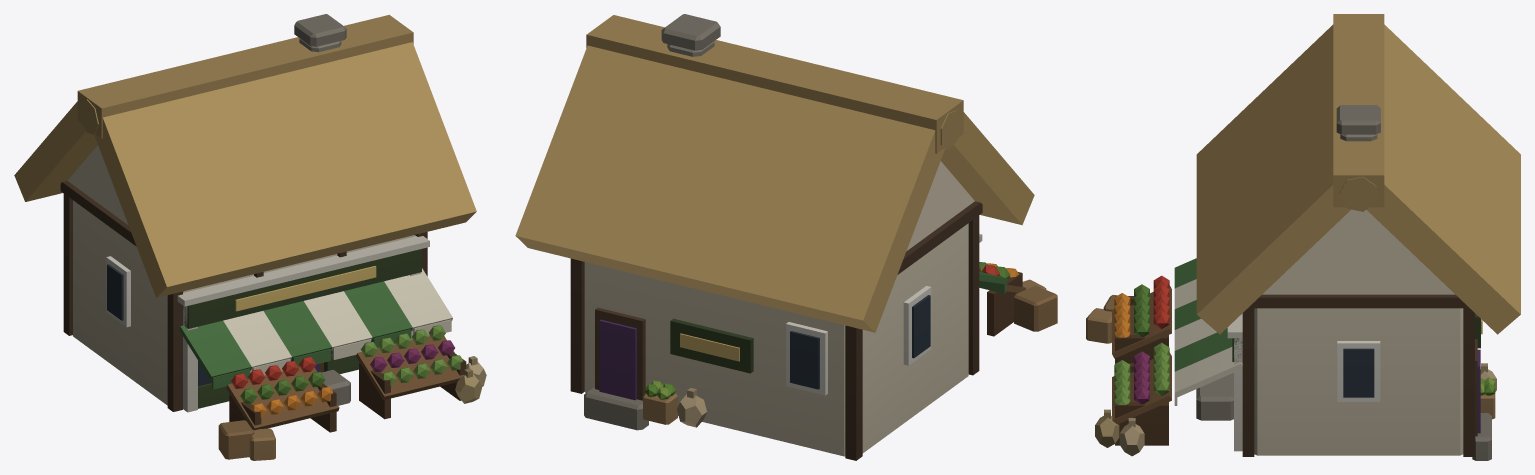
The model's file is grocer.glb.
3 renders of one model, left to right at view 1: azimuth 30°, elevation 25°; view 2: azimuth 150°, elevation 25°; view 3: azimuth 270°, elevation 25°, orthographic. The views are drawn at different scales.
Parts seen in each view (by area): view 1: grocer_model; view 2: grocer_model; view 3: grocer_model.
Part boxes in pixels (x1,y1,x2,y2): grocer_model: [14, 14, 486, 460]; grocer_model: [515, 14, 1057, 460]; grocer_model: [1086, 14, 1520, 460].
Size of the model in its own units: 0.78 by 0.7398 by 0.8822.
